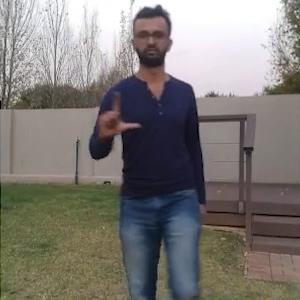land_hand: (95, 85, 142, 137)
